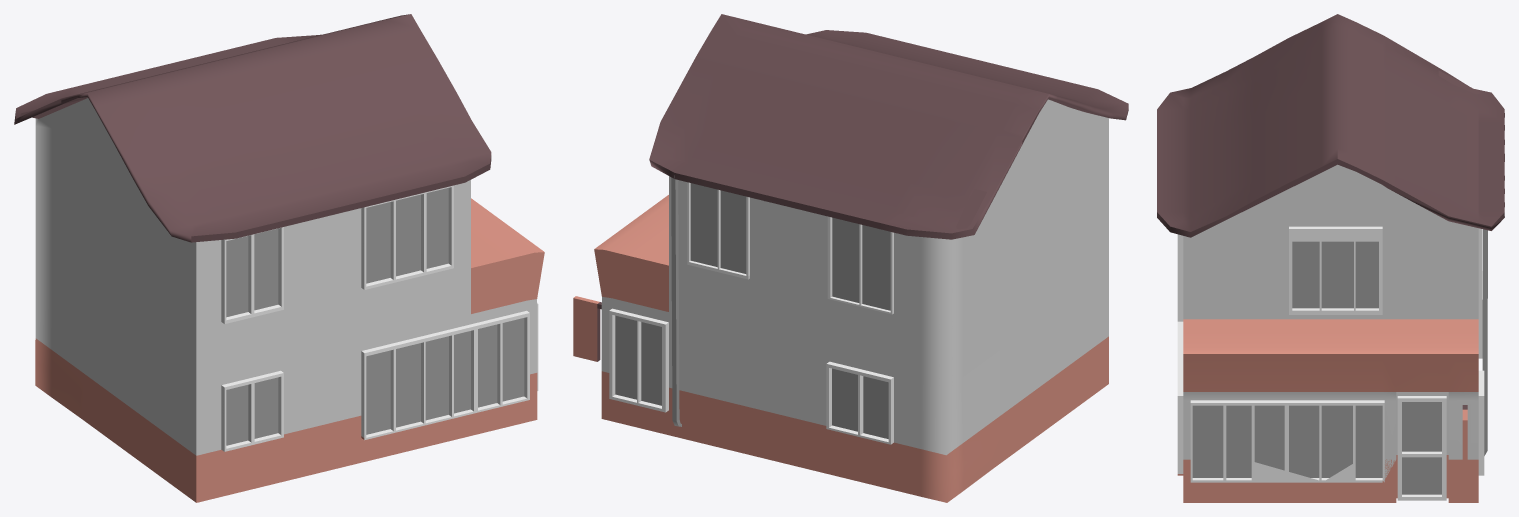
File: wanwan_niktoi.fbx
3 renders of one model, left to right at view 1: azimuth 30°, elevation 25°; view 2: azimuth 150°, elevation 25°; view 3: azimuth 270°, elevation 25°, orthographic. The views are drawn at different scales.
Parts seen in each view (by area): view 1: pCube1; view 2: pCube1; view 3: pCube1.
Boxes of the visible parts, x1=… form: pCube1: x1=14, y1=14, x2=544, y2=502; pCube1: x1=573, y1=14, x2=1128, y2=502; pCube1: x1=1157, y1=14, x2=1504, y2=502.
Size of the model in its own units: 18.54 by 15.71 by 15.22.
